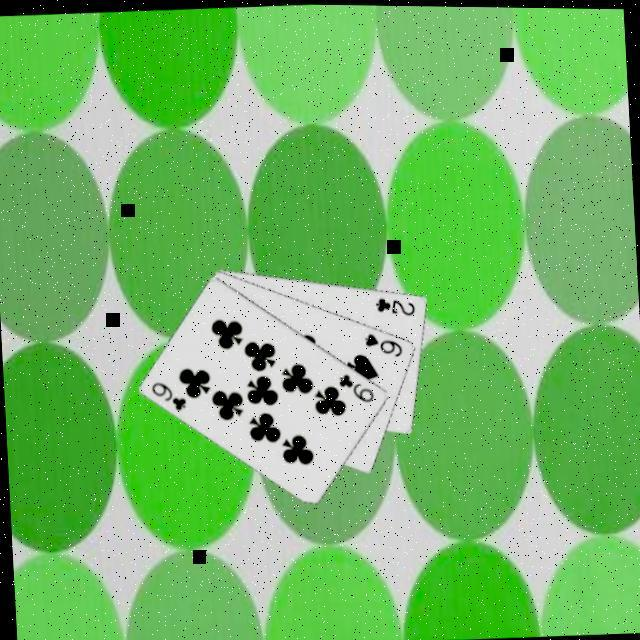2C: (370, 293, 416, 320)
6S: (360, 330, 405, 363)
9C: (334, 370, 376, 408), (147, 378, 189, 416)
